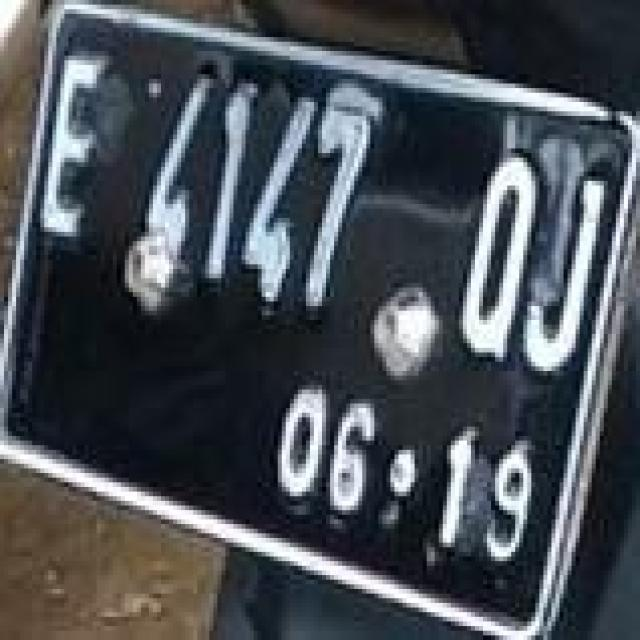1: (173, 68, 274, 310)
4: (222, 81, 324, 326), (131, 57, 228, 274)
7: (282, 98, 383, 328)
E: (25, 41, 122, 256)
J: (505, 164, 622, 400)
Q: (441, 138, 554, 376)
